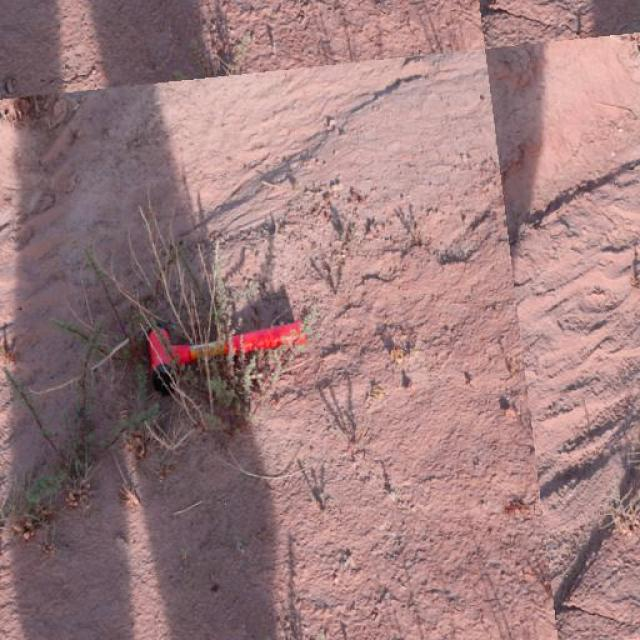mallet: (146, 317, 310, 393)
